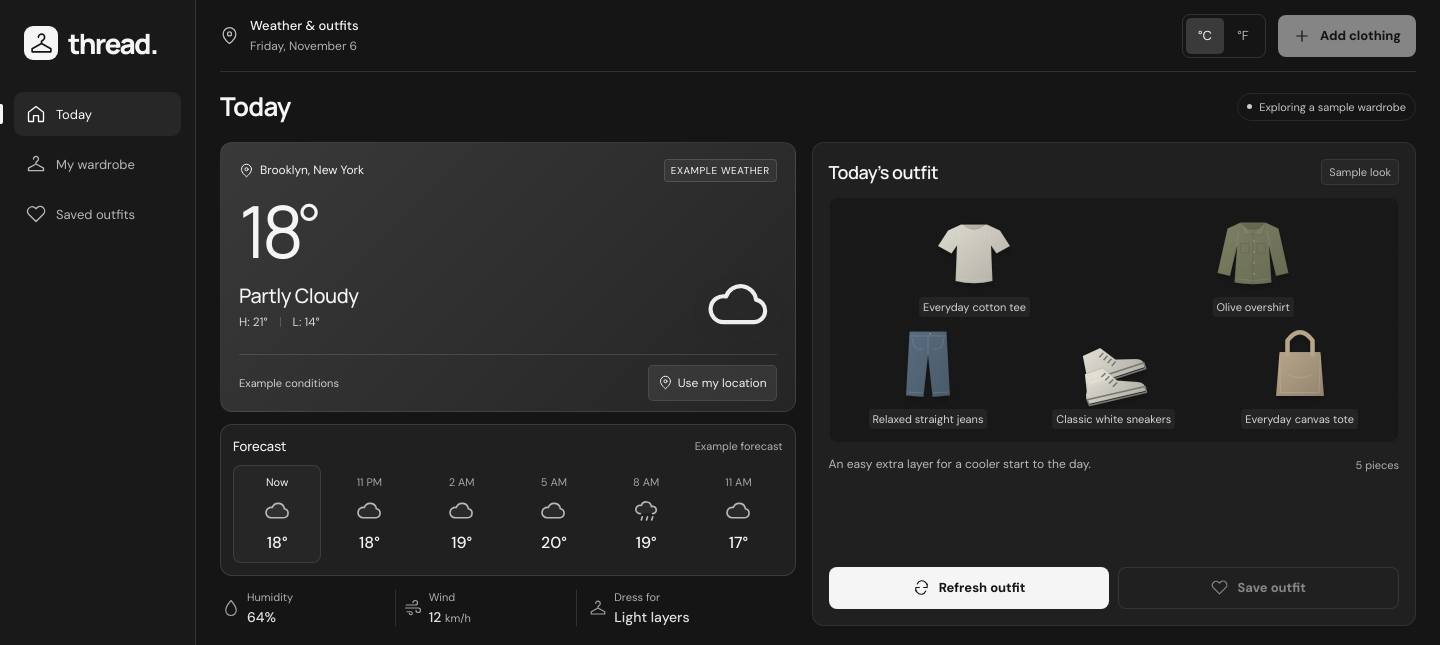
Test: shows the actual weather failure and allows another attempt
Click the button "Use my location" at (712, 383), box 648,365 -> 777,401
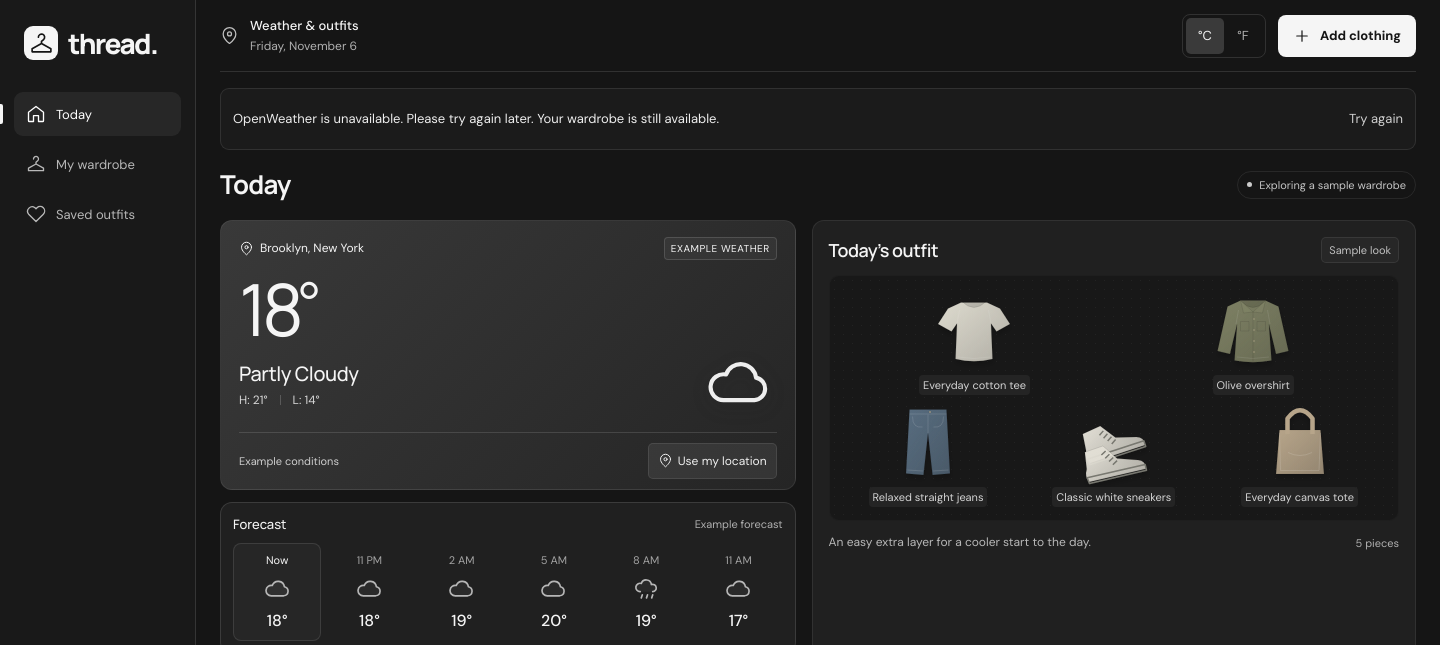
Expected: the button "Use my location" is enabled, 648,443 -> 777,479
Result: the text "OpenWeather is unavailable" is shown at 233,110 -> 719,127
